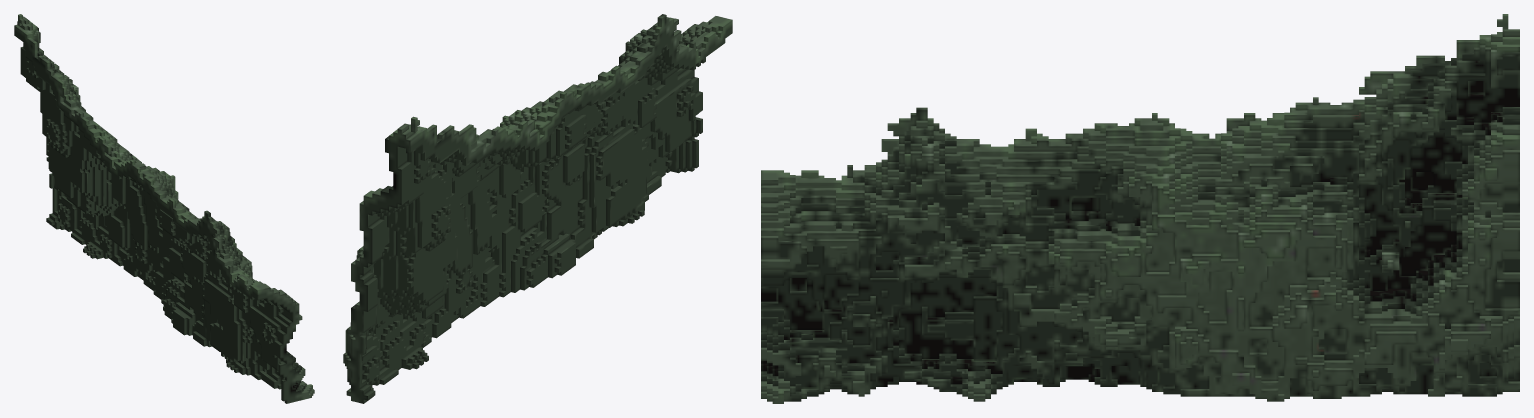
Rendered from treeline01-6-7r.fbx.
3 renders of one model, left to right at view 1: azimuth 30°, elevation 25°; view 2: azimuth 150°, elevation 25°; view 3: azimuth 270°, elevation 25°, orthographic. The views are drawn at different scales.
Visible parts, largest first — view 1: treeline01-6-7r; view 2: treeline01-6-7r; view 3: treeline01-6-7r.
Part boxes in pixels (bbox=[...]): treeline01-6-7r: bbox=[14, 14, 314, 403]; treeline01-6-7r: bbox=[343, 14, 732, 403]; treeline01-6-7r: bbox=[761, 14, 1519, 403].
Size of the model in its own units: 19 by 66 by 132.
